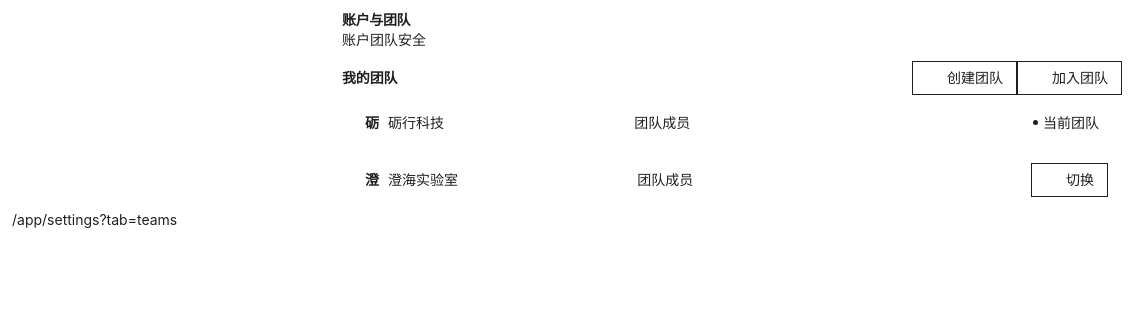
switches the current team only after the server accepts
The width and height of the screenshot is (1139, 313).
What coordinates should you click on to do the following:
click the button with aria-label "切换到澄海实验室"
I would click on:
 (1070, 180)
Its box is [1031,163,1108,197].
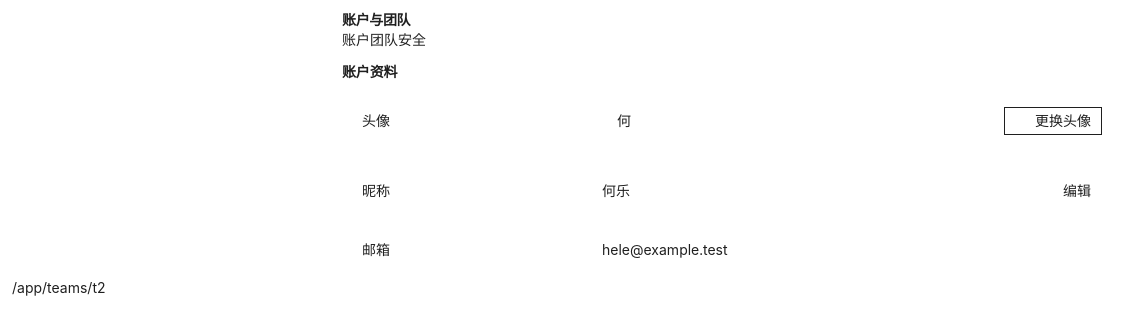
Result: the text "/app/teams/t2" is shown at [12,279,106,296]
